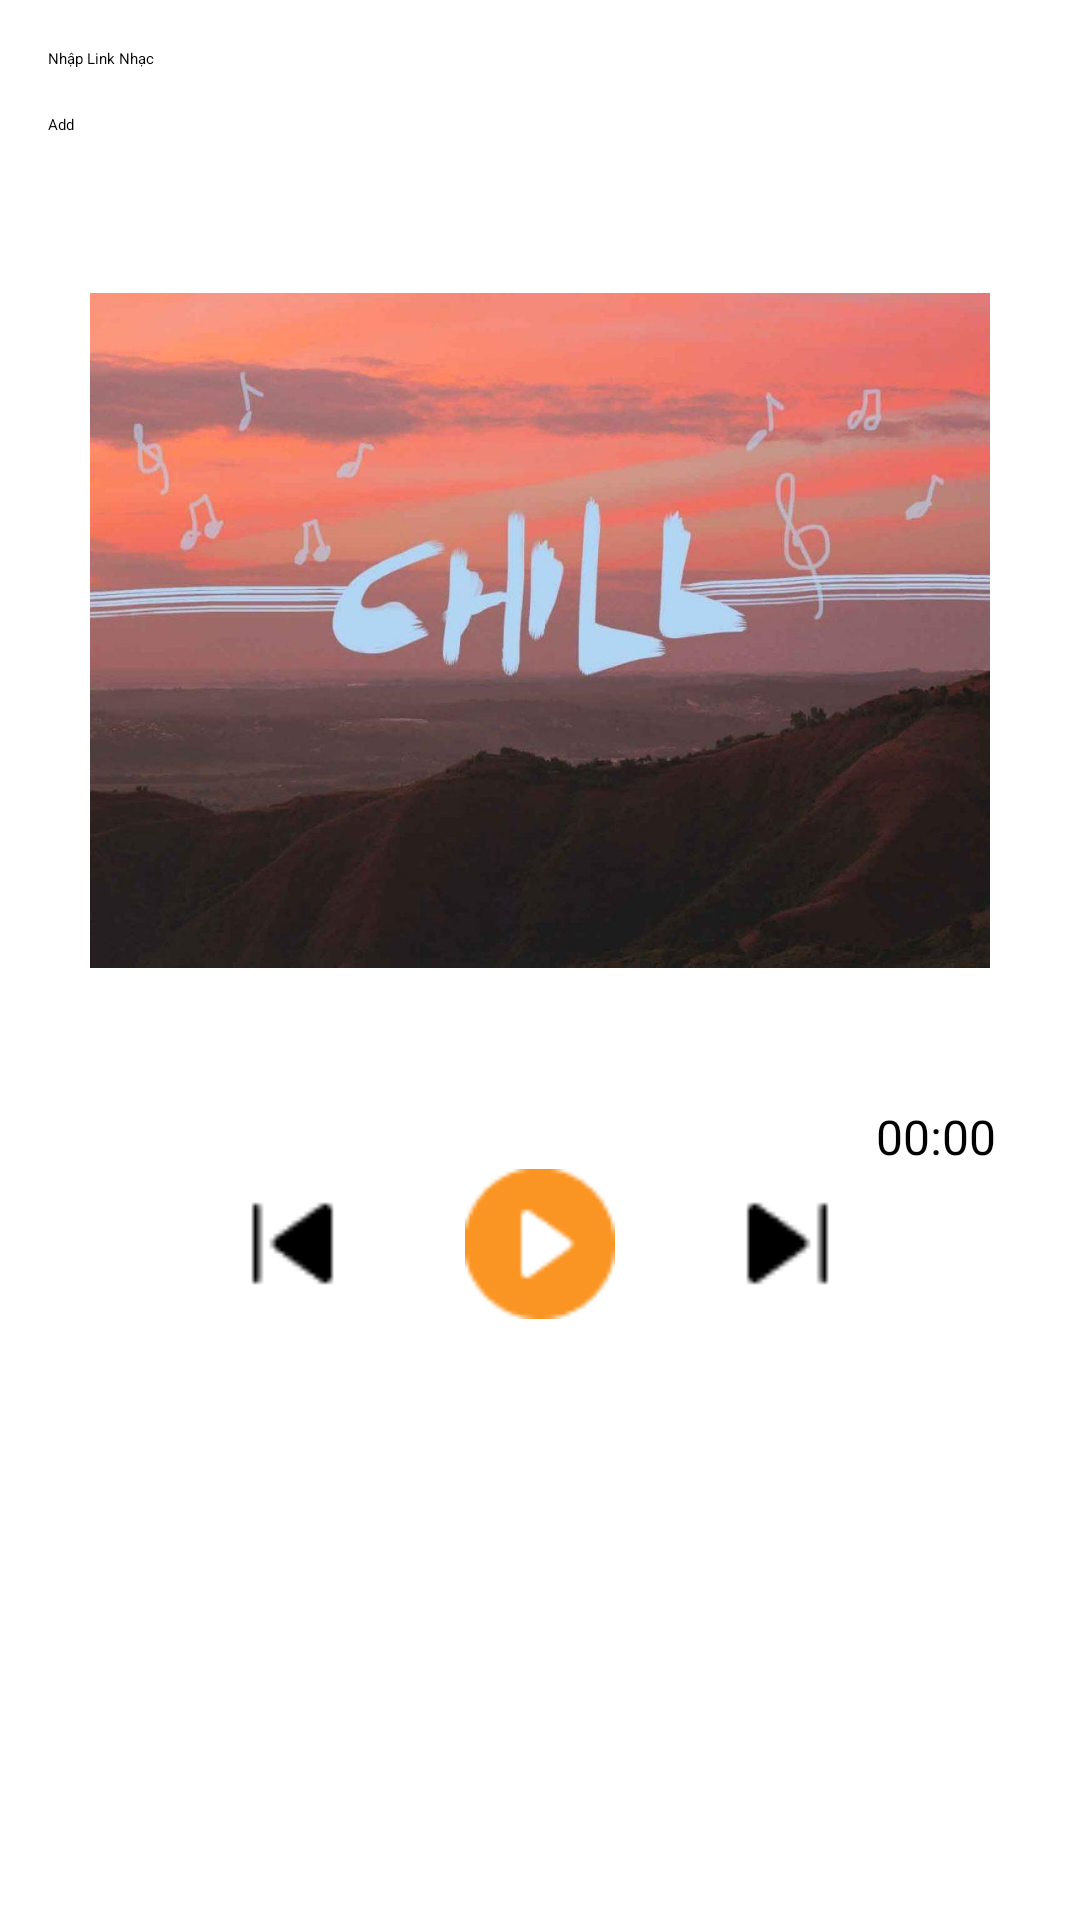

Where icons sit on this 1080px×1920px app screen, as (x1, y1, x2, y2):
luiii: (251, 1202, 334, 1285)
tien: (746, 1202, 829, 1285)
